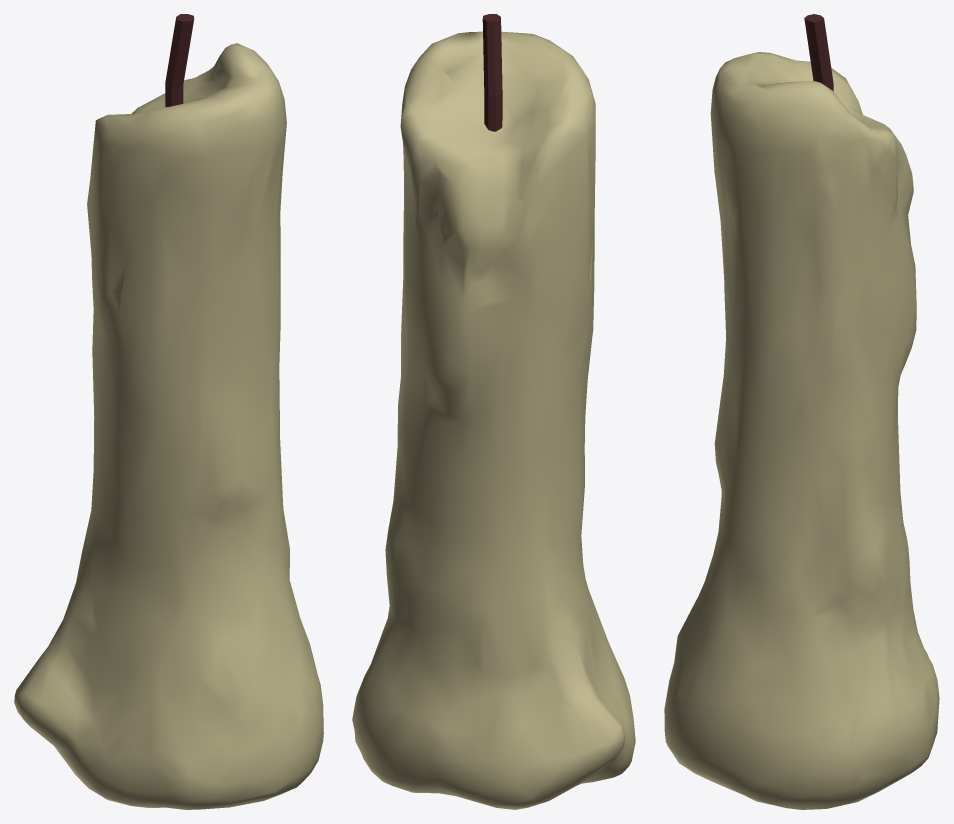
File: candle2.fbx
3 views of the same model, side by side, from view 1: azimuth 30°, elevation 25°; view 2: azimuth 150°, elevation 25°; view 3: azimuth 270°, elevation 25° (orthographic). The views are drawn at different scales.
Parts seen in each view (by area): view 1: candle2; view 2: candle2; view 3: candle2.
Part boxes in pixels (left/top/right/bottom): candle2: left=14, top=14, right=323, bottom=809; candle2: left=352, top=14, right=635, bottom=809; candle2: left=664, top=14, right=939, bottom=809.
Size of the model in its own units: 95.36 by 257 by 86.08.
